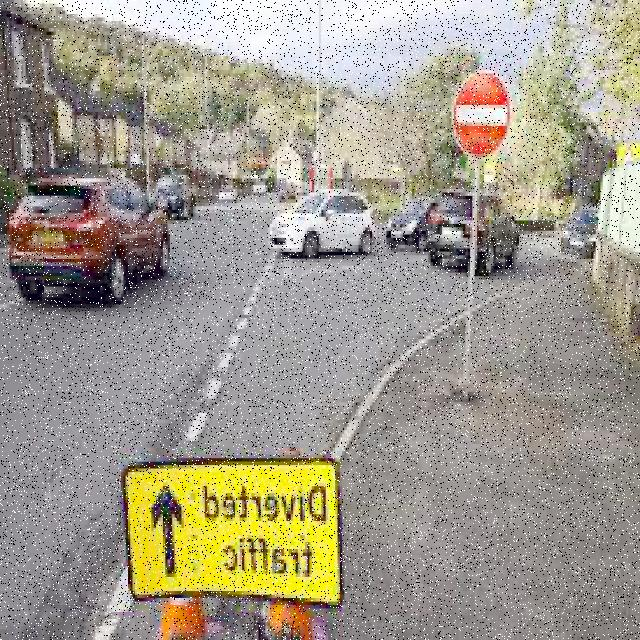no entry: (454, 70, 509, 154)
